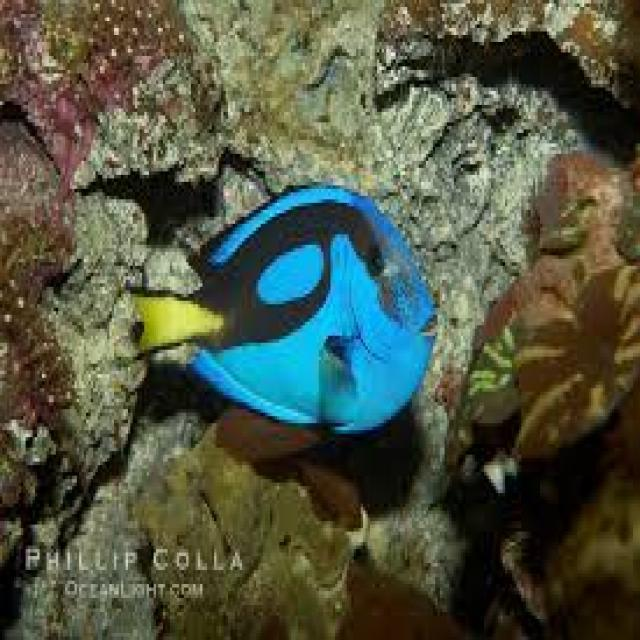BlueTang: (121, 155, 450, 467)
